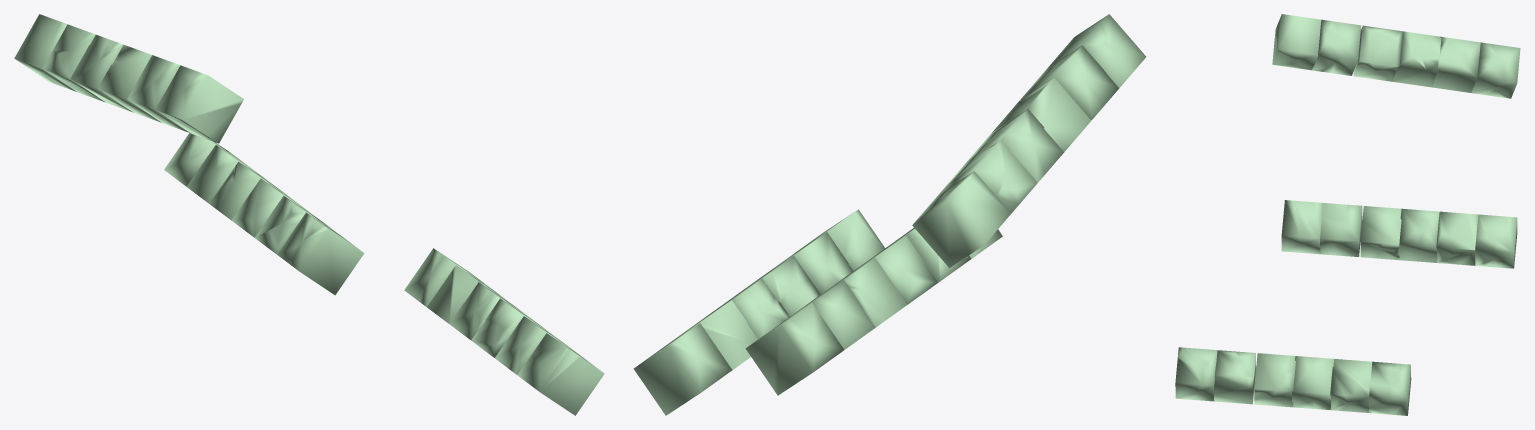
Rendered from VHF_Spleen_Extraction_Sites_1x6.glb.
3 renders of one model, left to right at view 1: azimuth 30°, elevation 25°; view 2: azimuth 150°, elevation 25°; view 3: azimuth 270°, elevation 25°, orthographic. The views are drawn at different scales.
Parts seen in each view (by area): view 1: VHF_CC1_1_1x6, VHF_CC3_1_1x6, VHF_CC2_1_1x6, VHF_CC1_3_1x6, VHF_CC1_6_1x6, VHF_CC1_2_1x6, VHF_CC1_5_1x6, VHF_CC1_4_1x6, VHF_CC3_3_1x6, VHF_CC2_3_1x6, VHF_CC3_2_1x6, VHF_CC2_5_1x6 (+6 smaller); view 2: VHF_CC1_6_1x6, VHF_CC2_6_1x6, VHF_CC3_6_1x6, VHF_CC1_2_1x6, VHF_CC1_1_1x6, VHF_CC1_3_1x6, VHF_CC1_5_1x6, VHF_CC1_4_1x6, VHF_CC2_5_1x6, VHF_CC2_4_1x6, VHF_CC2_3_1x6, VHF_CC3_5_1x6 (+5 smaller); view 3: VHF_CC1_1_1x6, VHF_CC1_3_1x6, VHF_CC1_2_1x6, VHF_CC1_6_1x6, VHF_CC2_6_1x6, VHF_CC2_2_1x6, VHF_CC1_5_1x6, VHF_CC3_6_1x6, VHF_CC3_2_1x6, VHF_CC1_4_1x6, VHF_CC2_1_1x6, VHF_CC2_5_1x6 (+6 smaller).
Boxes of the visible parts, x1,y1,x2,y2 form: VHF_CC1_1_1x6: (155,65,243,143); VHF_CC3_1_1x6: (517,333,604,415); VHF_CC2_1_1x6: (277,212,364,295); VHF_CC1_3_1x6: (98,45,161,122); VHF_CC1_6_1x6: (14,14,76,91); VHF_CC1_2_1x6: (127,55,189,132); VHF_CC1_5_1x6: (42,24,105,102); VHF_CC1_4_1x6: (70,34,133,112); VHF_CC3_3_1x6: (471,298,556,357); VHF_CC2_3_1x6: (231,178,316,237); VHF_CC3_2_1x6: (495,316,578,374); VHF_CC2_5_1x6: (186,145,271,203); VHF_CC1_6_1x6: (912,171,1011,267); VHF_CC2_6_1x6: (745,303,844,395); VHF_CC3_6_1x6: (633,323,732,415); VHF_CC1_2_1x6: (1020,45,1119,120); VHF_CC1_1_1x6: (1048,14,1146,87); VHF_CC1_3_1x6: (993,78,1091,151); VHF_CC1_5_1x6: (940,139,1037,213); VHF_CC1_4_1x6: (966,109,1064,182); VHF_CC2_5_1x6: (779,280,875,349); VHF_CC2_4_1x6: (812,258,907,327); VHF_CC2_3_1x6: (843,235,938,304); VHF_CC3_5_1x6: (670,300,757,369); VHF_CC1_1_1x6: (1272,14,1321,70); VHF_CC1_3_1x6: (1353,25,1402,81); VHF_CC1_2_1x6: (1312,19,1361,75); VHF_CC1_6_1x6: (1471,42,1520,98); VHF_CC2_6_1x6: (1475,214,1517,268); VHF_CC2_2_1x6: (1320,203,1362,256); VHF_CC1_5_1x6: (1432,36,1480,92); VHF_CC3_6_1x6: (1369,361,1411,415); VHF_CC3_2_1x6: (1214,350,1256,404); VHF_CC1_4_1x6: (1392,31,1441,87); VHF_CC2_1_1x6: (1281,200,1323,254); VHF_CC2_5_1x6: (1436,211,1478,265).
Bounding box in the file's own units: 0.6124 × 0.5723 × 0.6268.
